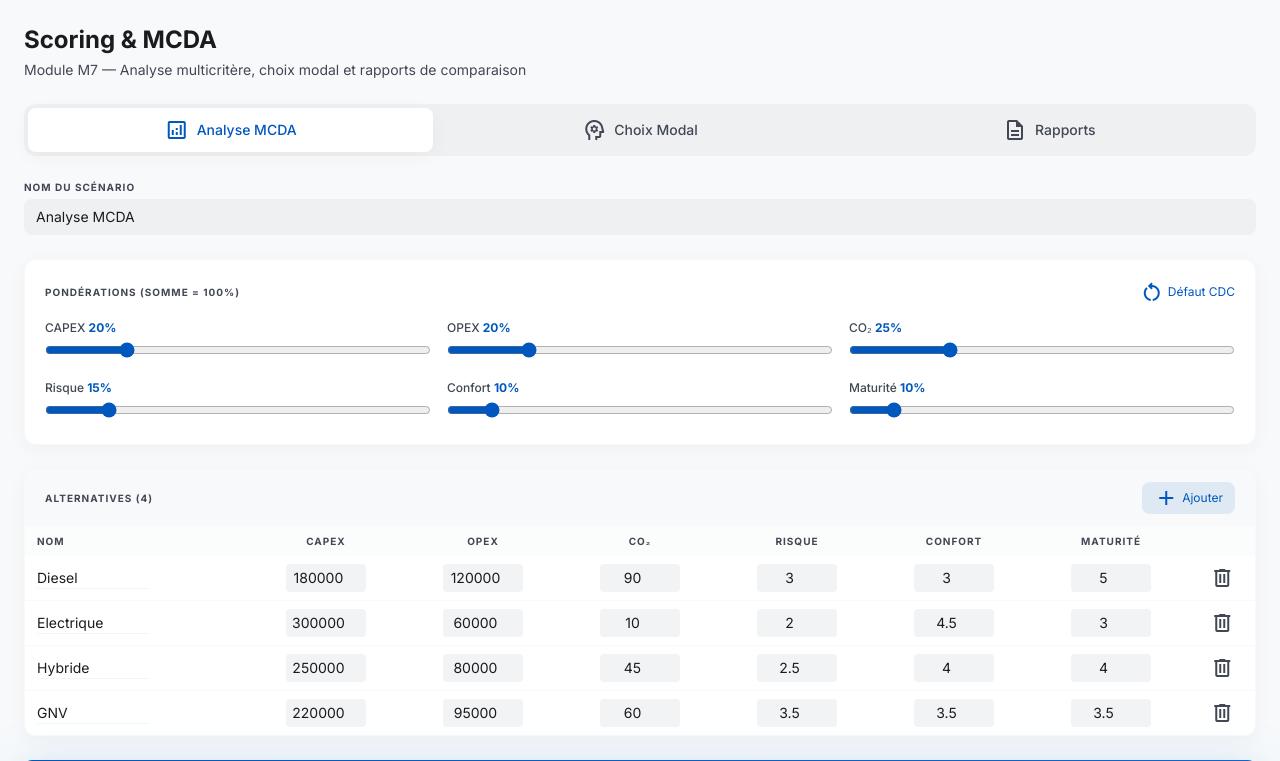
Scenario: ScoringDashboardPage › shows PDF and Excel download buttons when scenario ID entered
Click the button "Rapports" at (1049, 130), box [847, 108, 1252, 152]
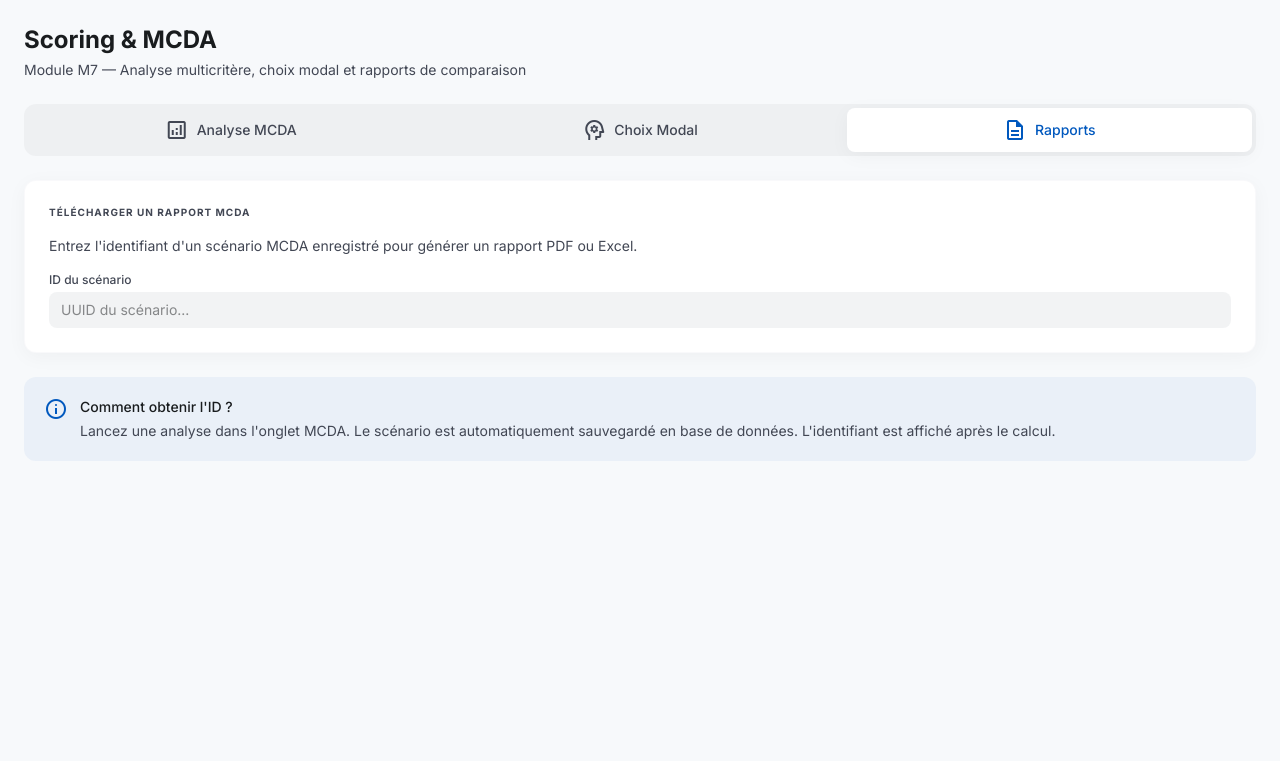
Type "123e4567-e89b-12d3-a456-426614174000" into the field with placeholder "UUID du scénario..." at (640, 310), box [49, 292, 1231, 328]
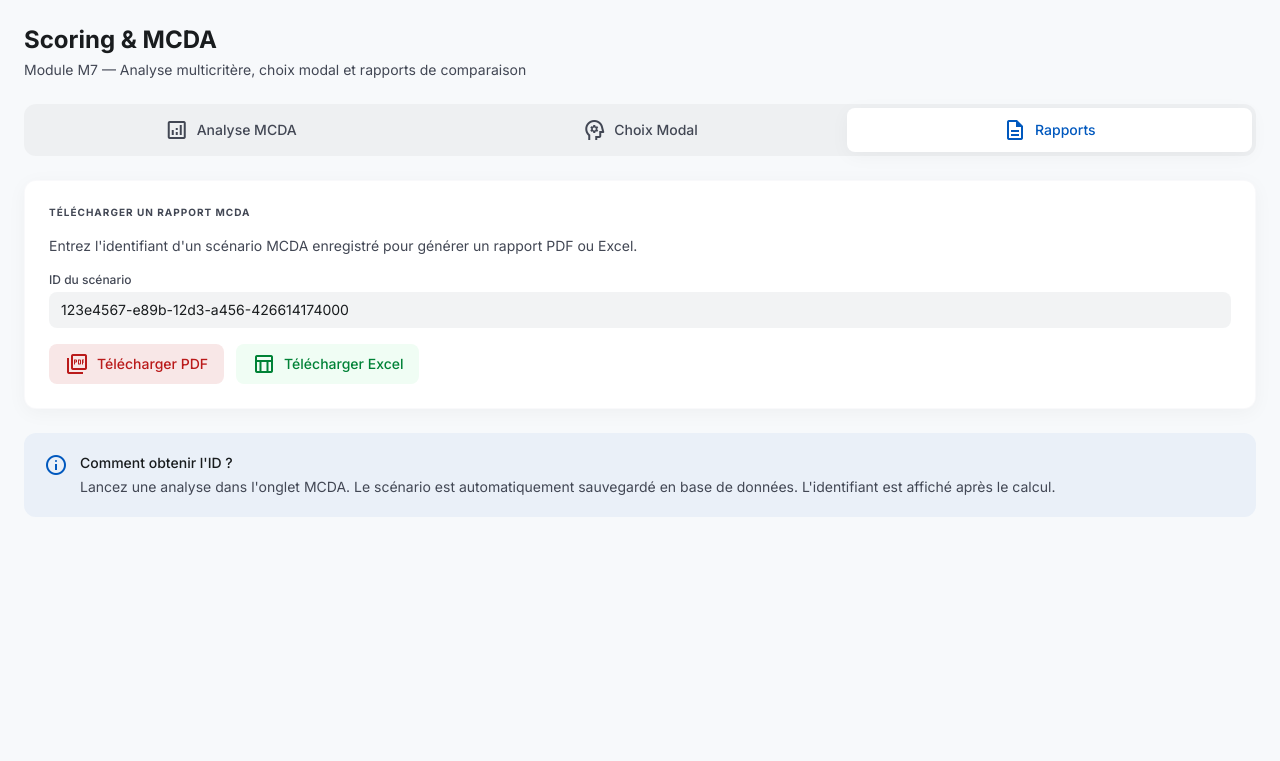
Expected: the button "Télécharger PDF" is shown, [49, 344, 224, 384]
Expected: the button "Télécharger Excel" is shown, [236, 344, 420, 384]
